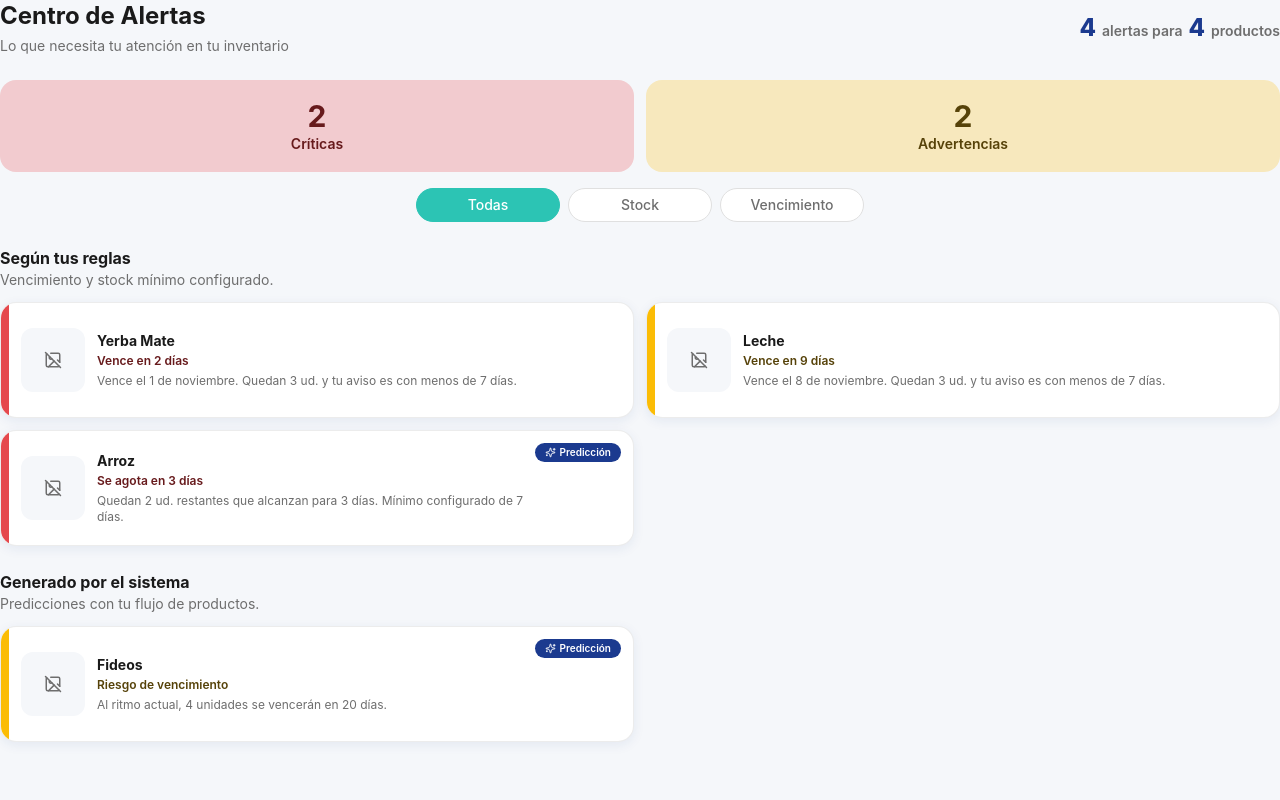
Test case: Alertas (Centro de Alertas) › al tocar una alerta se abre su detalle, con el motivo y la explicación, y se cierra con la flecha
The width and height of the screenshot is (1280, 800).
Click the button with test id "alert-item-stock_low_coverage-5". click: coordinates (578, 452)
box: left=0, top=430, right=634, bottom=546
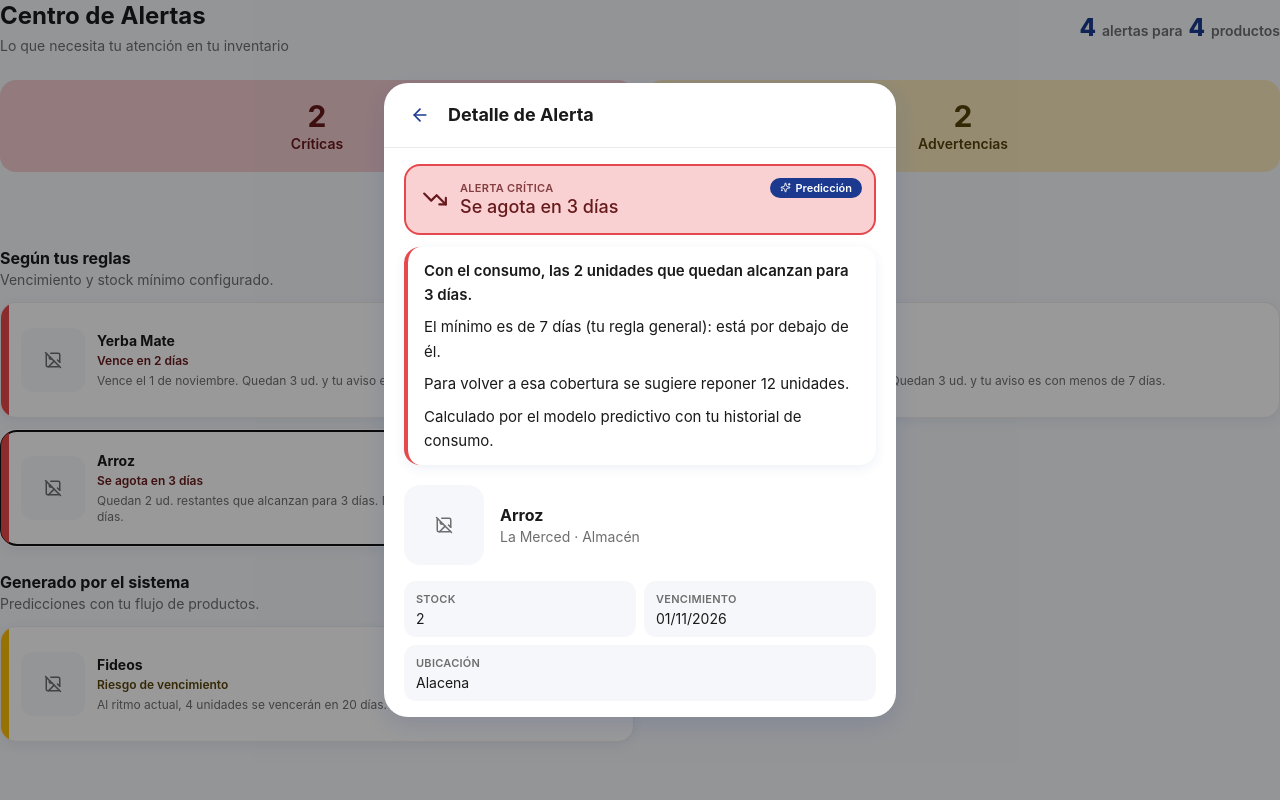
Check: the element with test id "alert-detail-reason" shows "Se agota en 3 días", box left=460, top=196, right=618, bottom=217
Check: the element with test id "alert-detail-text" shows "se sugiere reponer 12 unidades", box left=424, top=374, right=849, bottom=393
Check: the text "Predicción" is shown, box left=770, top=178, right=862, bottom=198
Click the button named "Volver". click: coordinates (420, 115)
box: left=404, top=99, right=436, bottom=131
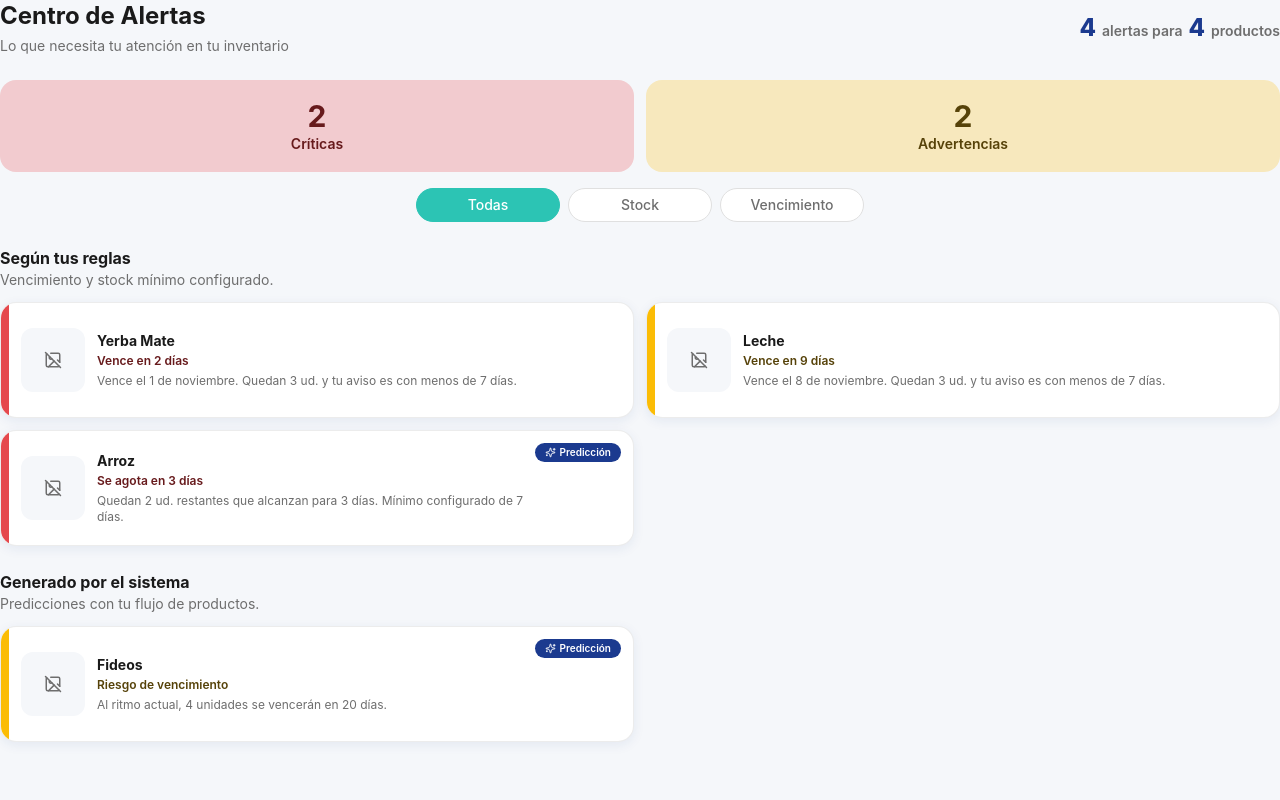
Check: the dialog is gone
